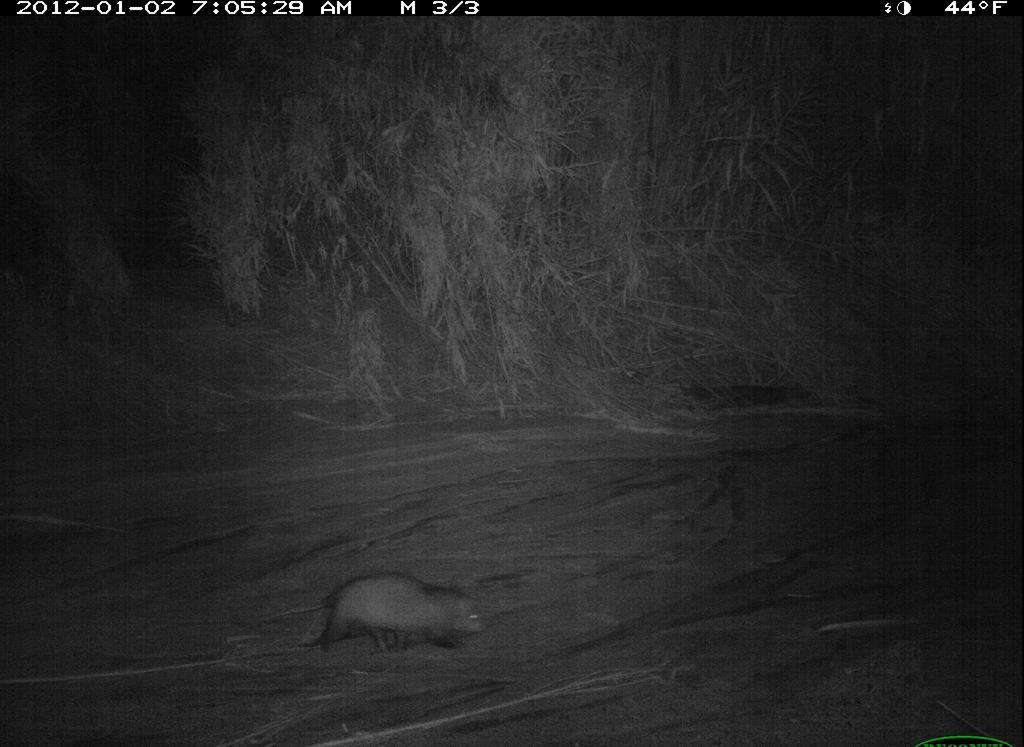opossum: (297, 565, 500, 661)
